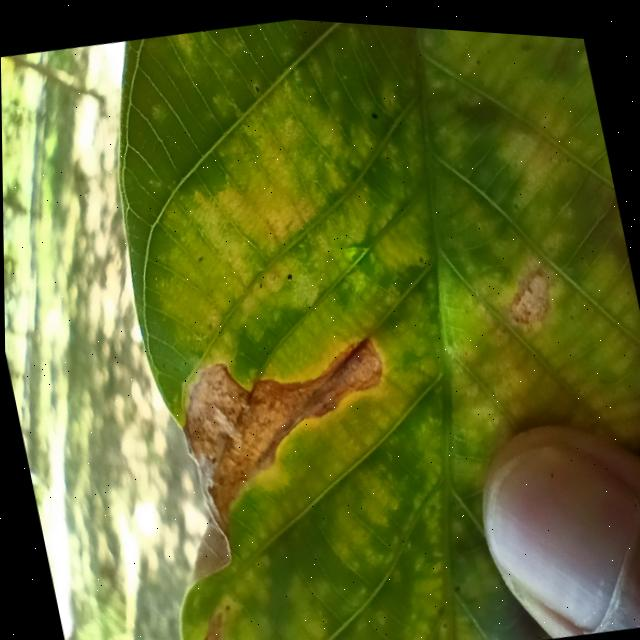Colletotrichum: (370, 104, 378, 113), (285, 267, 293, 276)
Leaf-Blight: (139, 315, 423, 597), (503, 260, 557, 322), (186, 602, 249, 640)
